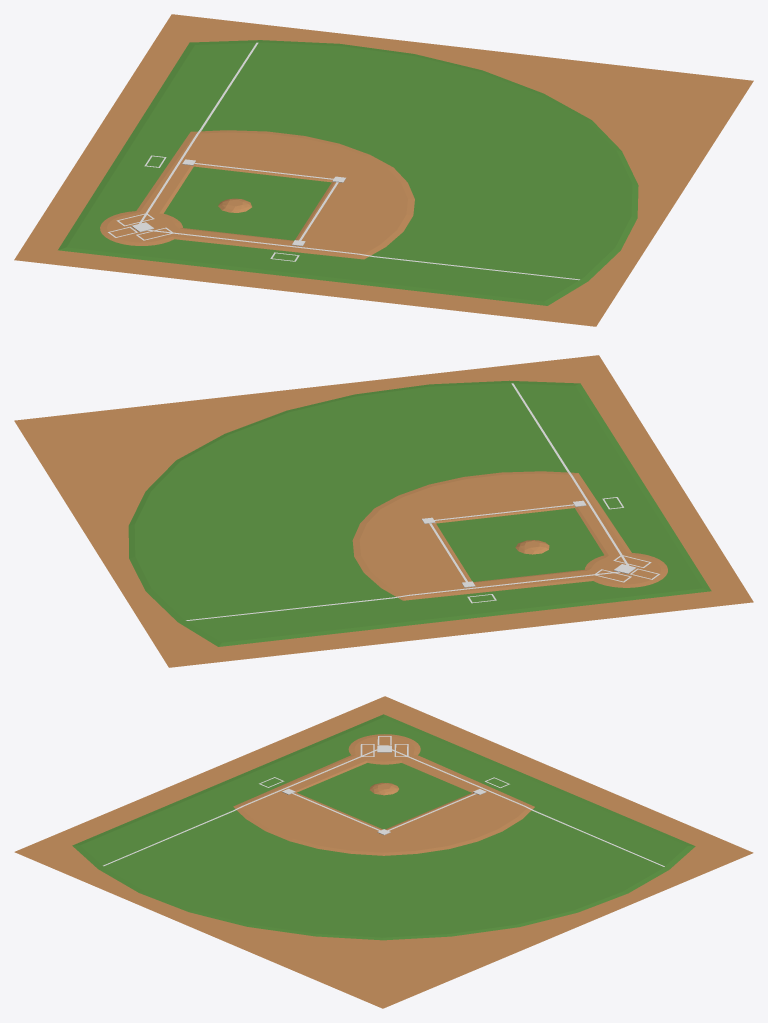
3 views of the same model, one above another, from view 1: azimuth 30°, elevation 25°; view 2: azimuth 150°, elevation 25°; view 3: azimuth 270°, elevation 25° (orthographic). The views are drawn at different scales.
Parts seen in each view (by area): view 1: Field, White Lines; view 2: Field, White Lines; view 3: Field, White Lines.
Boxes of the visible parts, x1,y1,x2,y2 form: Field: (14,14,753,326); White Lines: (108,42,579,280); Field: (14,355,753,667); White Lines: (186,383,659,620); Field: (14,696,753,1008); White Lines: (103,736,664,866).
Size of the model in its own units: 2960 by 15.95 by 2960.
